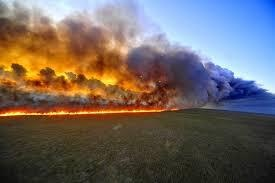fire: (2, 101, 167, 119)
